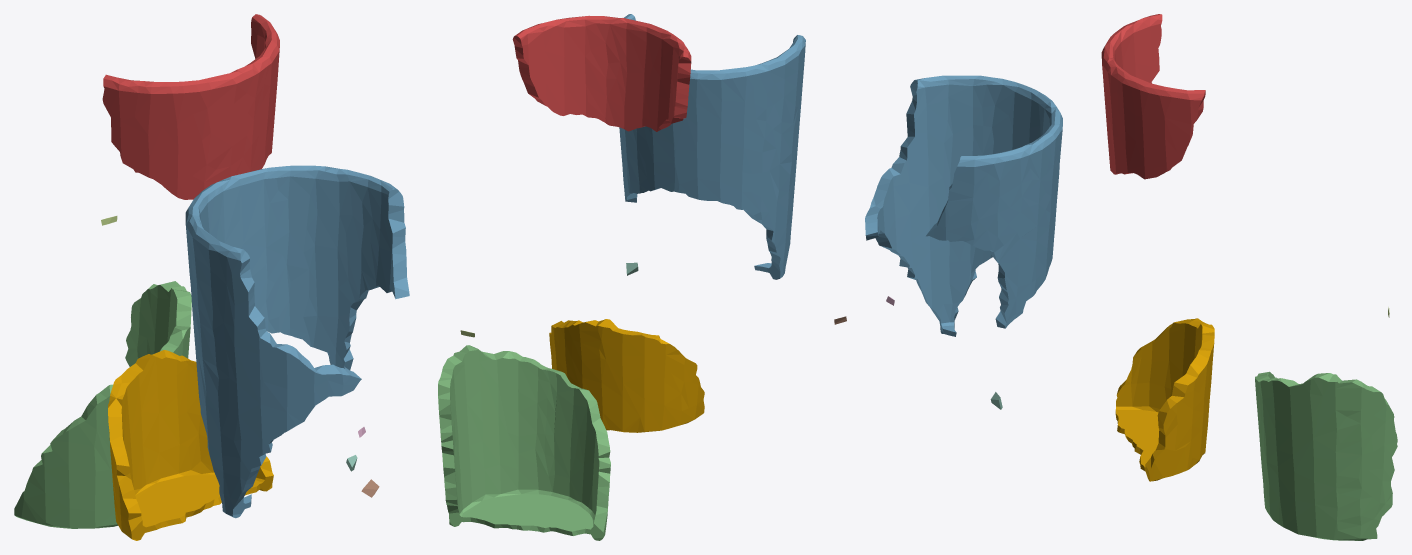
The model's file is mode_5_8pcs_transformed.glb.
3 renders of one model, left to right at view 1: azimuth 30°, elevation 25°; view 2: azimuth 150°, elevation 25°; view 3: azimuth 270°, elevation 25°, orthographic. The views are drawn at different scales.
Visible parts, largest first — view 1: piece_2.obj, piece_1.obj, piece_0.obj, piece_3.obj; view 2: piece_3.obj, piece_2.obj, piece_1.obj, piece_0.obj; view 3: piece_2.obj, piece_3.obj, piece_0.obj, piece_1.obj.
Boxes of the visible parts, <box> form: piece_2.obj: <box>185,165,409,518</box>; piece_1.obj: <box>102,14,279,199</box>; piece_0.obj: <box>108,350,273,540</box>; piece_3.obj: <box>14,281,191,528</box>; piece_3.obj: <box>438,345,610,540</box>; piece_2.obj: <box>619,14,805,279</box>; piece_1.obj: <box>512,15,691,131</box>; piece_0.obj: <box>549,319,704,432</box>; piece_2.obj: <box>865,75,1062,336</box>; piece_3.obj: <box>1255,371,1397,540</box>; piece_0.obj: <box>1115,318,1214,481</box>; piece_1.obj: <box>1101,14,1205,179</box>.
Bounding box in the file's own units: 0.7449 × 1.83 × 2.04.
